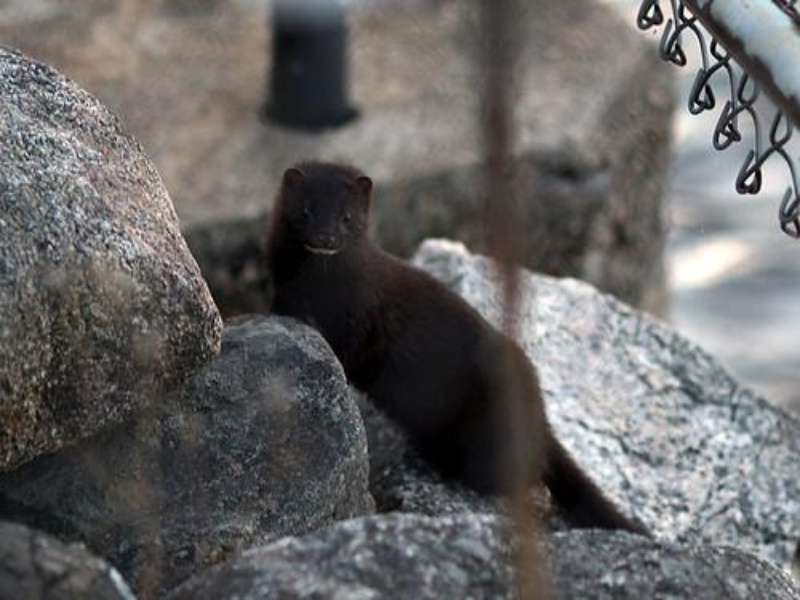minkish: (259, 158, 654, 551)
